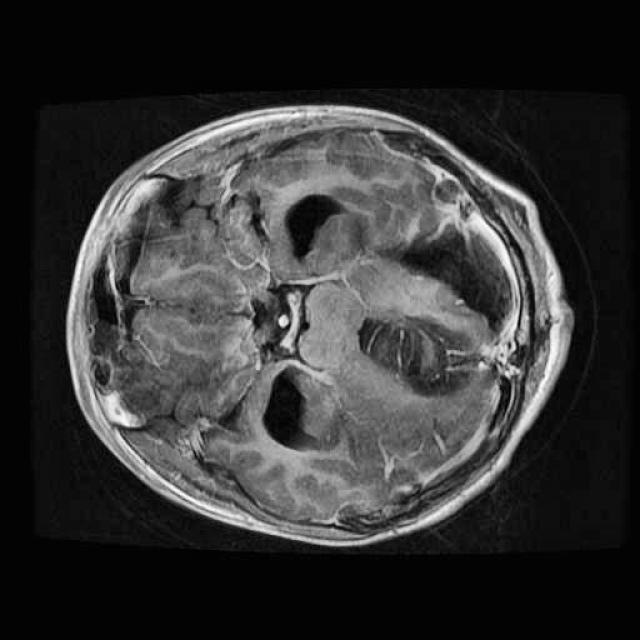Non-Tumor: (342, 301, 488, 410)
